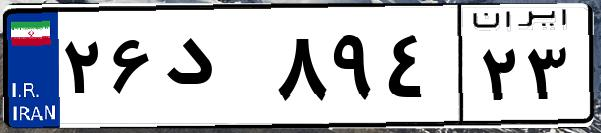2: (57, 26, 110, 100), (475, 38, 525, 113)
3: (525, 38, 570, 115)
4: (385, 28, 445, 110)
6: (110, 28, 158, 98)
8: (270, 28, 330, 110)
9: (330, 28, 385, 110)
د: (158, 20, 270, 120)
